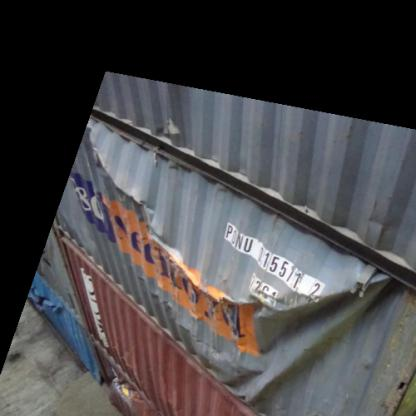Damage: (71, 140, 215, 296), (224, 276, 394, 408)
